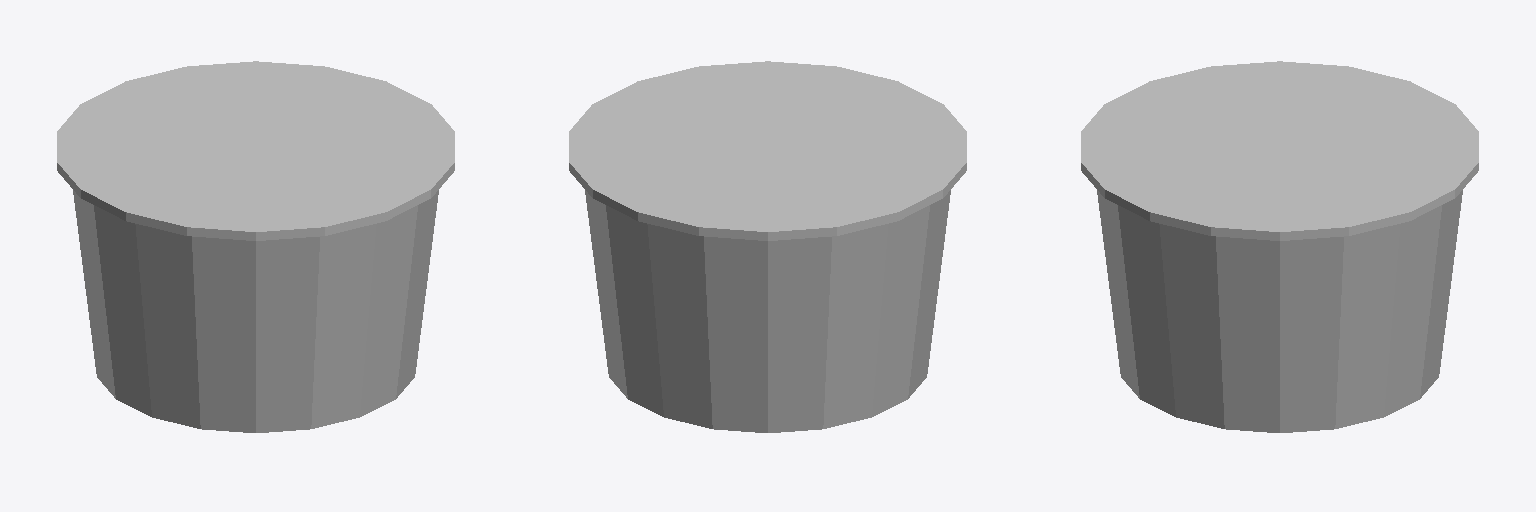
The model's file is Tazon.obj.
3 renders of one model, left to right at view 1: azimuth 30°, elevation 25°; view 2: azimuth 150°, elevation 25°; view 3: azimuth 270°, elevation 25°, orthographic.
Visible parts, largest first — view 1: hypercasual_prop015; view 2: hypercasual_prop015; view 3: hypercasual_prop015.
Boxes of the visible parts, box(x1,y1,x2,y2) form: hypercasual_prop015: box(57, 61, 454, 432); hypercasual_prop015: box(569, 61, 966, 432); hypercasual_prop015: box(1081, 61, 1478, 432).
Bounding box in the file's own units: 1.13 × 0.674 × 1.11.